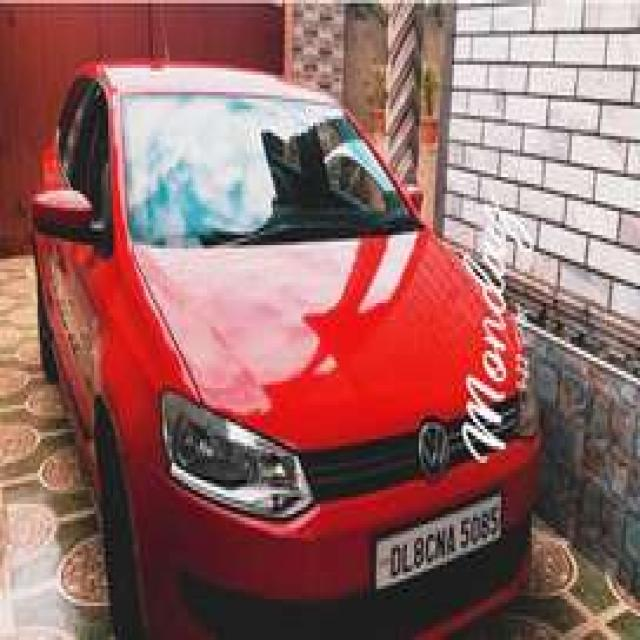license-plate: (372, 487, 499, 585)
